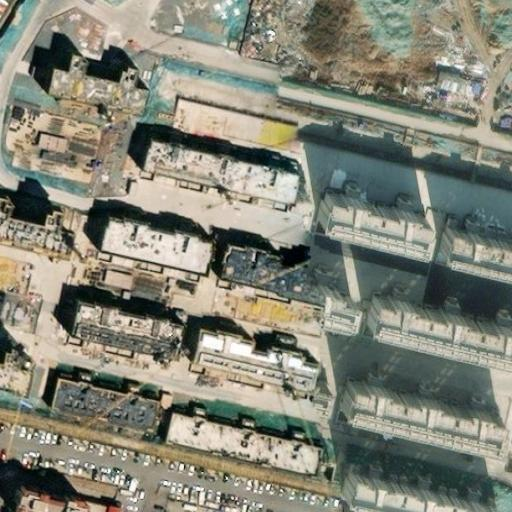building: (332, 368, 493, 439), (360, 283, 512, 354), (148, 146, 298, 211), (174, 421, 322, 485), (335, 461, 485, 512), (224, 250, 341, 311), (195, 334, 311, 394), (201, 75, 312, 137), (400, 131, 512, 188), (103, 224, 211, 280), (77, 308, 183, 365), (312, 182, 419, 238), (47, 59, 146, 117), (54, 384, 158, 437), (306, 102, 379, 154), (431, 216, 512, 260), (14, 493, 82, 512), (97, 263, 133, 287)
